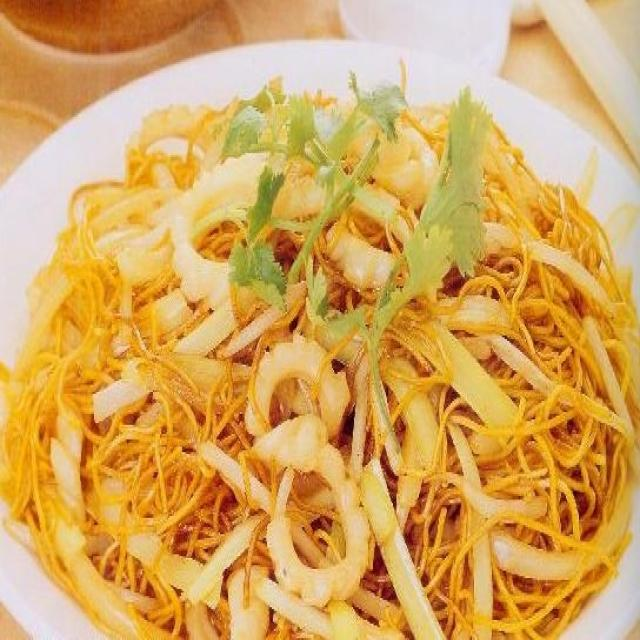面条主食: (13, 70, 635, 626)
